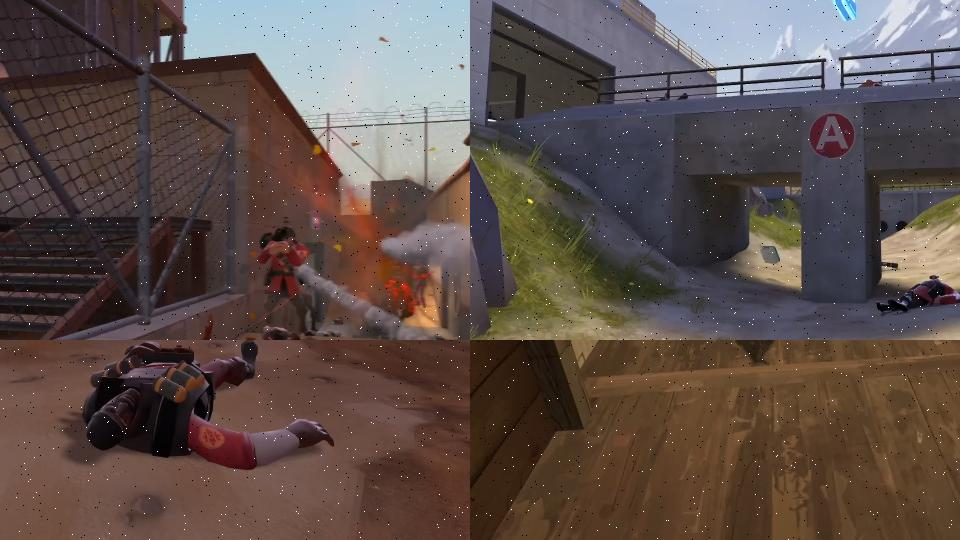Enemy: (82, 341, 335, 470), (255, 224, 311, 332), (876, 274, 960, 312), (410, 264, 429, 307)
